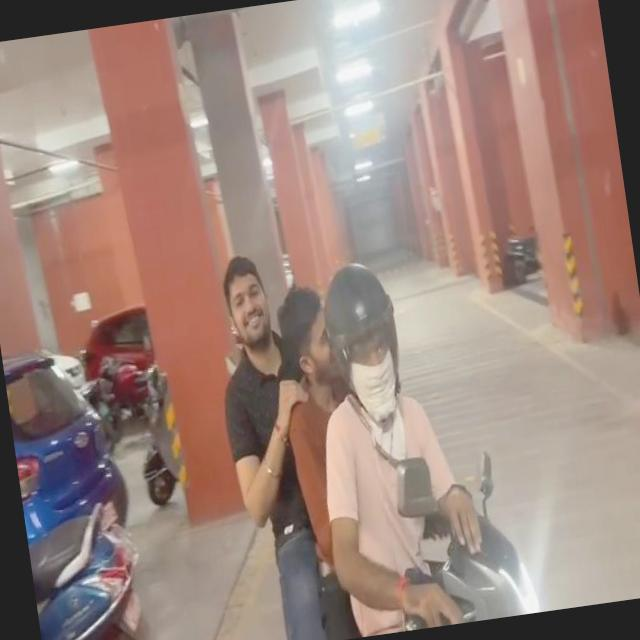motorcycle: (235, 450, 552, 640)
person: (195, 241, 378, 630), (312, 248, 483, 637), (246, 277, 391, 630)
rider_region: (199, 210, 545, 640)
